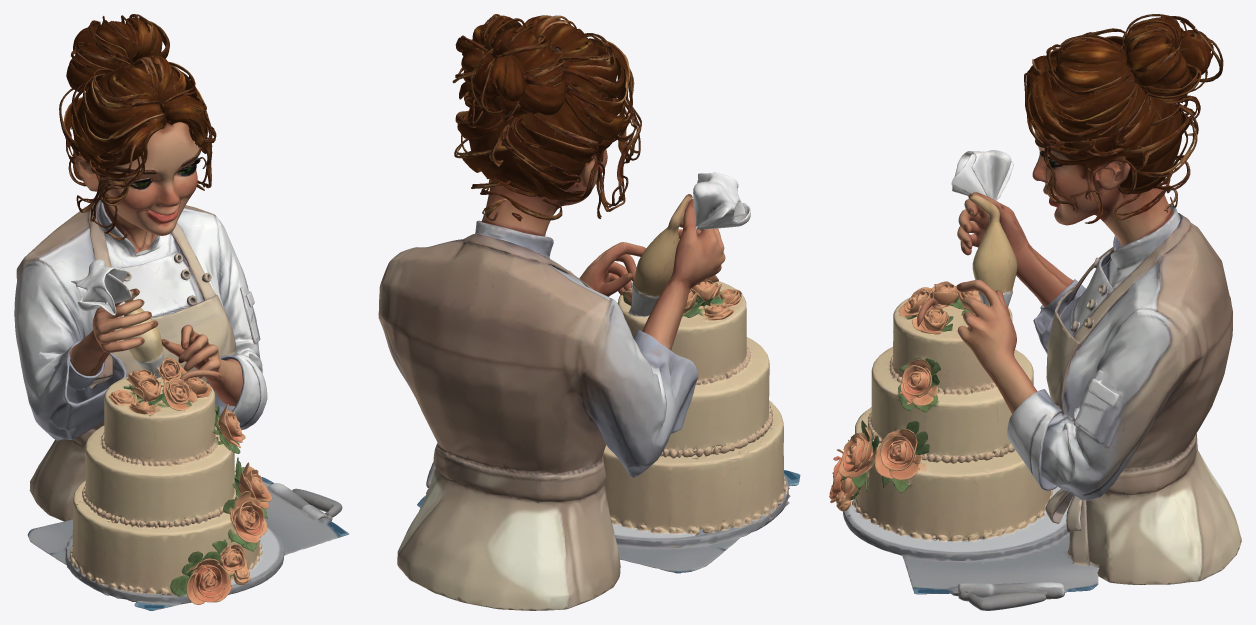
Rendered from piping.glb.
3 views of the same model, side by side, from view 1: azimuth 30°, elevation 25°; view 2: azimuth 150°, elevation 25°; view 3: azimuth 270°, elevation 25° (orthographic). The views are drawn at different scales.
Visible parts, largest first — view 1: world; view 2: world; view 3: world.
Part boxes in pixels (x1,y1,x2,y2): world: (14,14,348,610); world: (378,14,800,610); world: (829,14,1241,610).
Size of the model in its own units: 0.6069 by 1 by 0.7181.
Materials: 1 (1 with a texture image).
